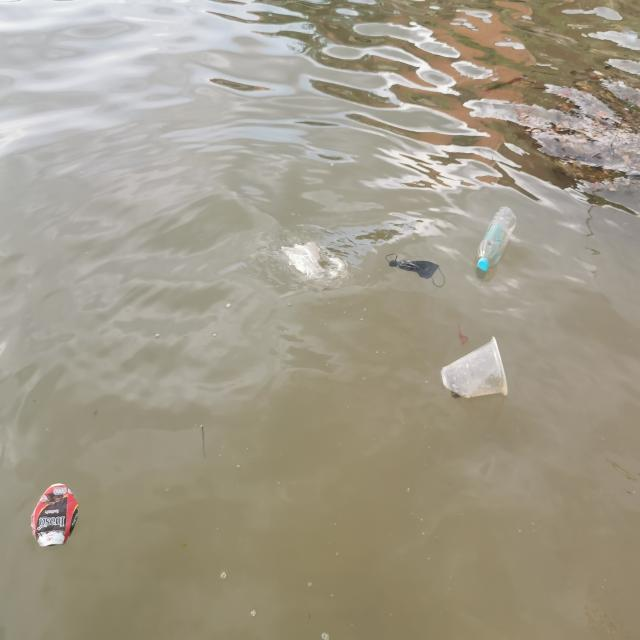can: (28, 472, 80, 550)
plastic: (475, 201, 524, 278)
plastic bottle: (433, 336, 522, 408), (276, 237, 352, 294)
unknow: (384, 250, 446, 290)
